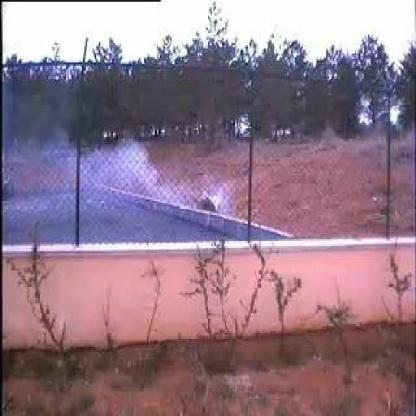-: (43, 128, 230, 244)
